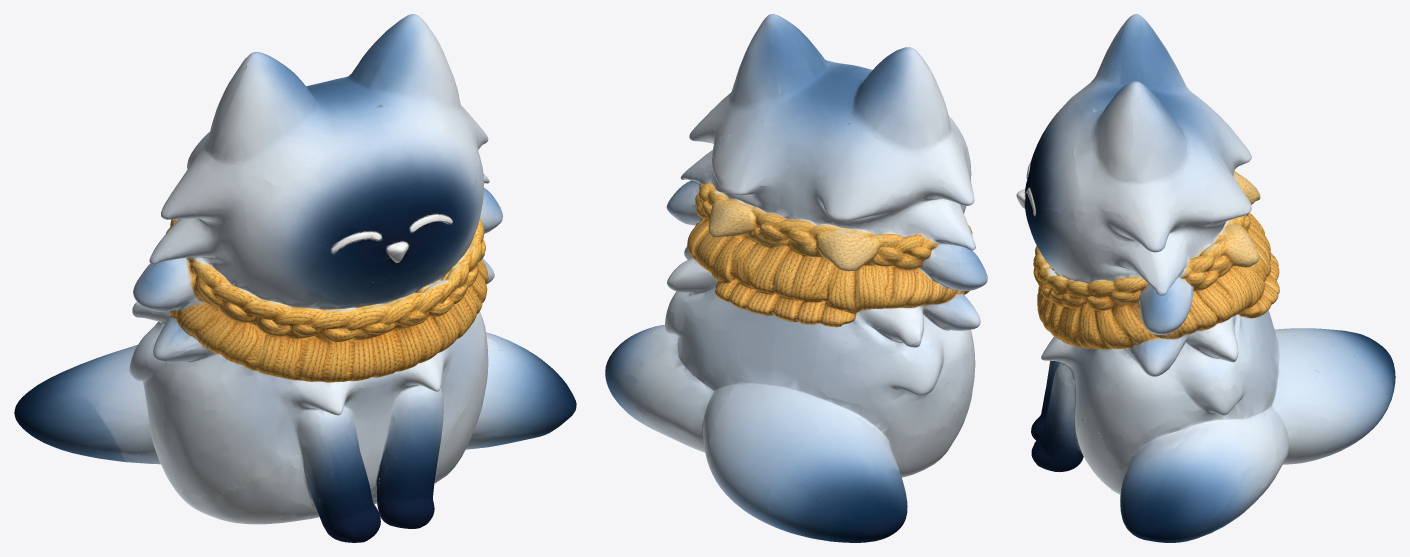
Rendered from honey-neck-warmer-B1-7x2re.glb.
3 views of the same model, side by side, from view 1: azimuth 30°, elevation 25°; view 2: azimuth 150°, elevation 25°; view 3: azimuth 270°, elevation 25° (orthographic). The views are drawn at different scales.
Visible parts, largest first — view 1: worn-honey-neck-warmer; view 2: worn-honey-neck-warmer; view 3: worn-honey-neck-warmer.
Part boxes in pixels (bbox=[...]): worn-honey-neck-warmer: bbox=[14, 14, 576, 542]; worn-honey-neck-warmer: bbox=[605, 14, 987, 542]; worn-honey-neck-warmer: bbox=[1016, 14, 1395, 542].
Bounding box in the file's own units: 1.88 × 1.9 × 1.6.
Materials: 1 (1 with a texture image).
